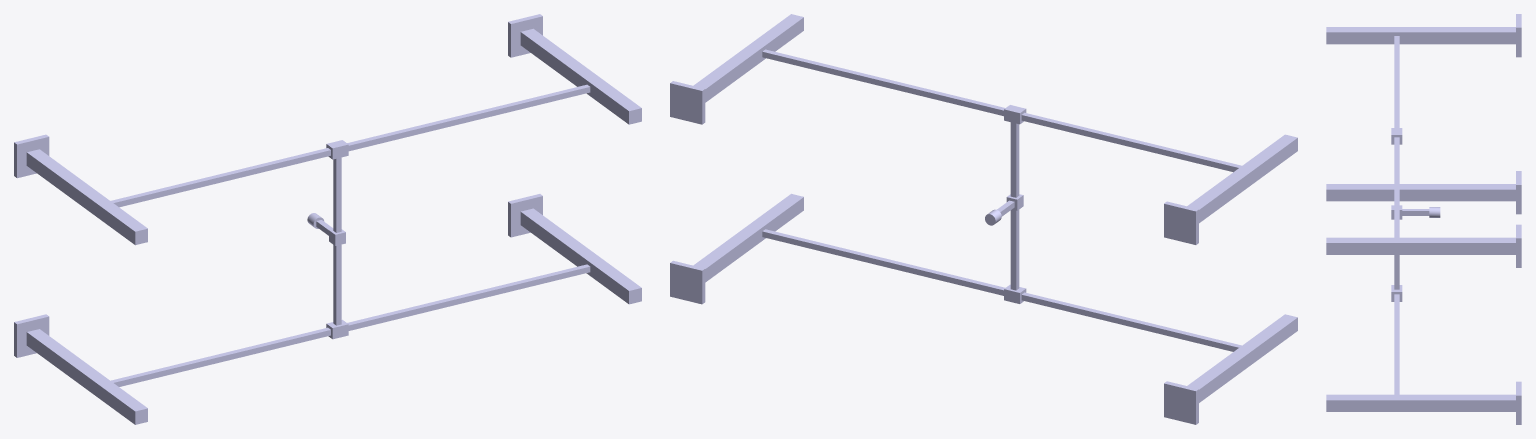
The model's file is manipulator_v2_mesh.obj.
The picture shows the model from 3 angles, left to right: view 1: azimuth 30°, elevation 25°; view 2: azimuth 150°, elevation 25°; view 3: azimuth 270°, elevation 25°; orthographic projection. The views are drawn at different scales.
Bounding box in the file's own units: 4.9 × 1.9 × 1.8.
